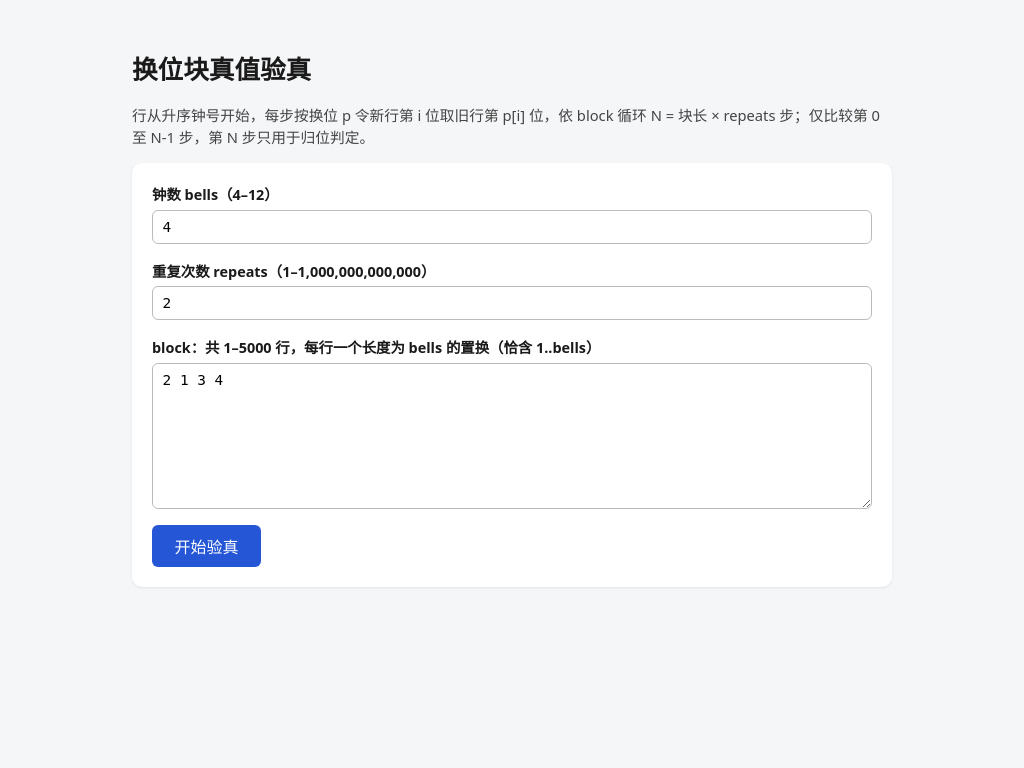
Test case: App verification flow › displays success for a one-trillion-repeat exact verification
The image size is (1024, 768).
Click the button "开始验真": (206, 546) [152,525,261,566]
(page scrolled)
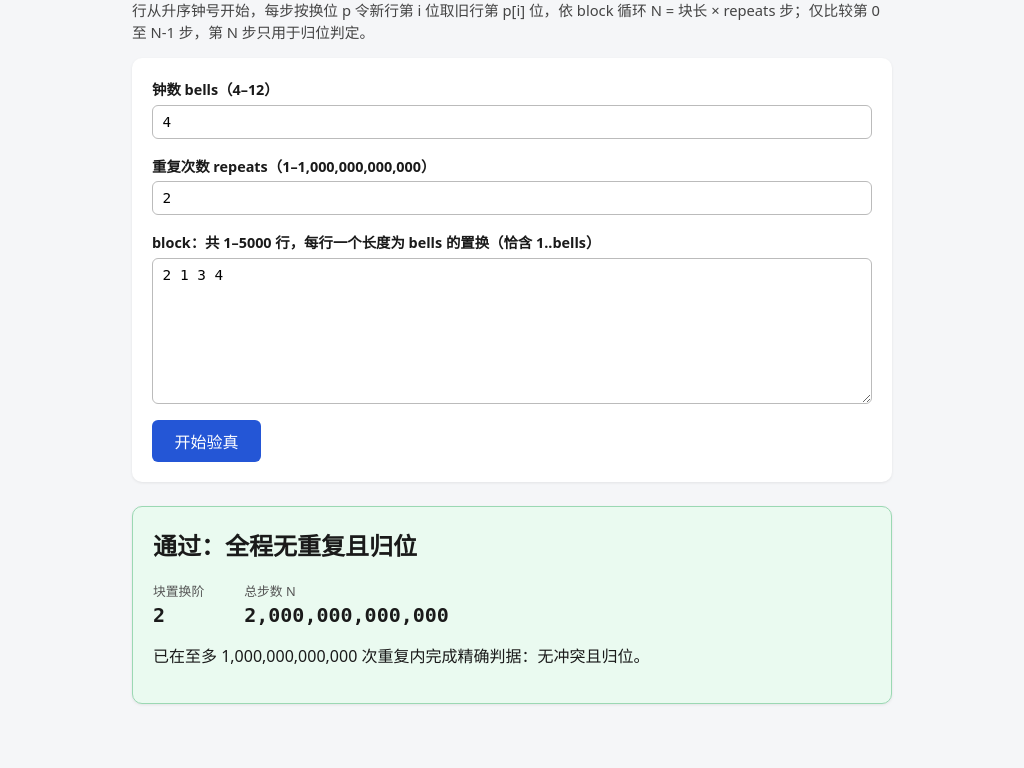
Expected: the element with test id "result-panel" is shown, [132,506,892,704]
Expected: the heading with test id "result-status" shows "通过", [153,528,417,562]
Expected: the text with test id "fact-total" reads "2,000,000,000,000", [244,603,449,627]
